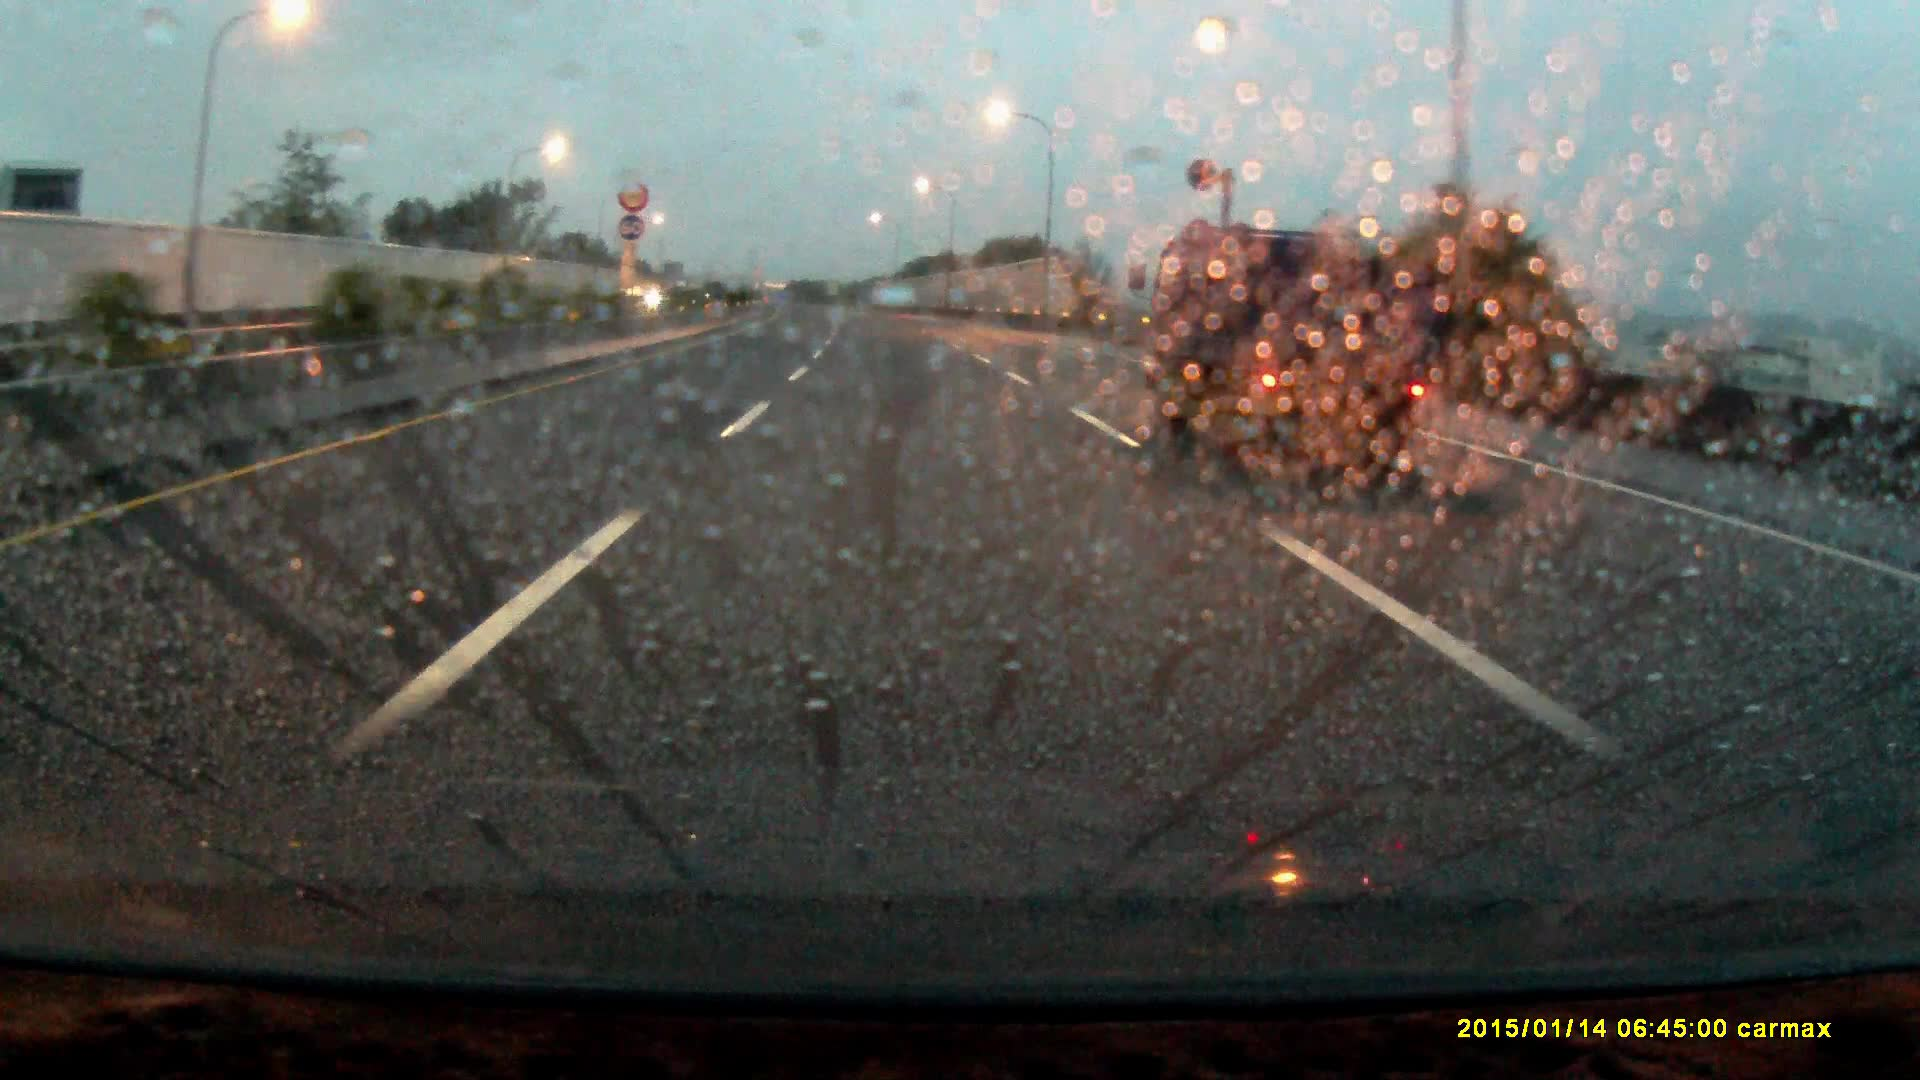vehicle: (1178, 210, 1462, 502)
